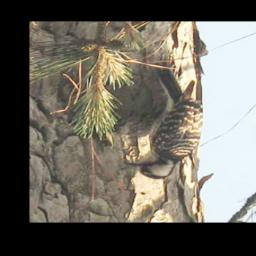Woodpecker: (123, 65, 204, 180)
